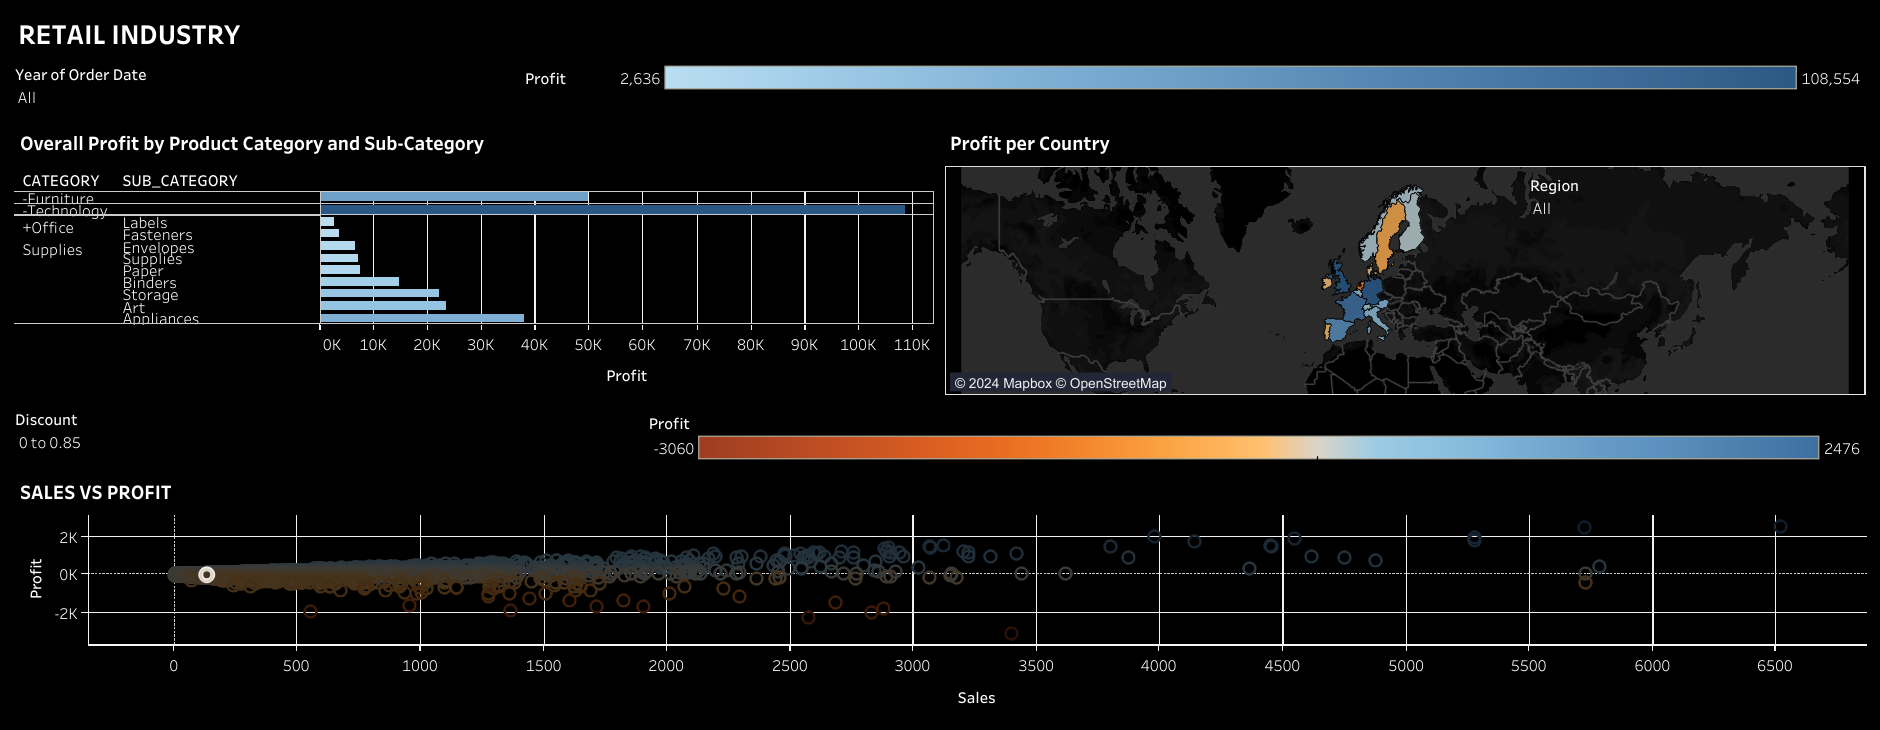

This screenshot's page, from the dashboard's own definition file:
{"tool":"tableau","page":{"name":"Dashboard 1","canvas":[1000,1000],"units":"permille","ordinal":0},"visuals":[{"type":"title","box":[4.8,9.4,990.3,52.9]},{"type":"filter","title":"Sheet 1","param":"[federated.133wk3s0vg1wbj147jnbg1wnlru0].[yr:Order Date:ok]","box":[4.8,62.3,271.1,83.3]},{"type":"legend","title":"Sheet 1","param":"[federated.133wk3s0vg1wbj147jnbg1wnlru0].[sum:Profit:qk]","box":[275.9,62.3,719.3,83.3]},{"type":"worksheet","title":"Sheet 1","mark":"Automatic","rows":["Category","Calculation_1179380189264293888","Calculation_1179380189264867329"],"cols":["Profit"],"box":[4.8,145.6,495.1,399.1]},{"type":"worksheet","title":"Sheet 3","mark":"Automatic","box":[500,145.6,495.2,399.1]},{"type":"filter","title":"Sheet 3","param":"[federated.133wk3s0vg1wbj147jnbg1wnlru0].[none:Region:nk]","box":[813.5,236,164.1,94.7]},{"type":"filter","title":"Sheet 2","param":"[federated.133wk3s0vg1wbj147jnbg1wnlru0].[avg:Discount:qk]","box":[4.8,544.7,337,87.6]},{"type":"legend","title":"Sheet 2","param":"[federated.133wk3s0vg1wbj147jnbg1wnlru0].[none:Profit:qk]","box":[341.8,544.7,653.4,87.6]},{"type":"worksheet","title":"Sheet 2","mark":"Automatic","rows":["Profit"],"cols":["Sales"],"box":[4.8,632.3,990.3,358.3]}]}

Visuals, with their boxes on the dashboard's canvas, which has no fixed pixel size, in thousandths of its width and height (x1, y1, x2, y2). These are canvas units, not pixel positions in the 1880x730 screenshot, which may show the page scaled, cropped or inside an application window:
title: <box>5,9,995,62</box>
"Sheet 1" filter: <box>5,62,276,146</box>
"Sheet 1" legend: <box>276,62,995,146</box>
"Sheet 1" worksheet: <box>5,146,500,545</box>
"Sheet 3" worksheet: <box>500,146,995,545</box>
"Sheet 3" filter: <box>814,236,978,331</box>
"Sheet 2" filter: <box>5,545,342,632</box>
"Sheet 2" legend: <box>342,545,995,632</box>
"Sheet 2" worksheet: <box>5,632,995,991</box>
